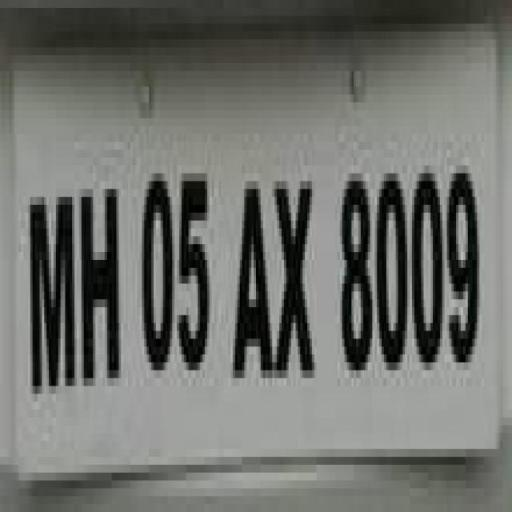number plate: (4, 16, 482, 480)
